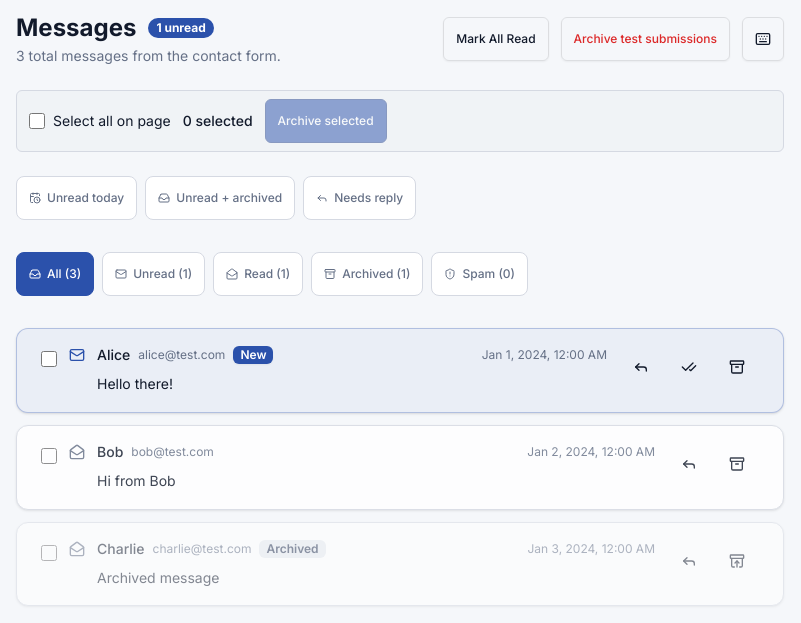
Test: MessagesViewer › filters by All/Unread/Read tabs
Expected: the text "Alice" is shown, [97, 345, 130, 365]
Expected: the text "Bob" is shown, [97, 442, 123, 462]
Click the tab "Unread (1)" at (154, 274), box [102, 252, 205, 296]
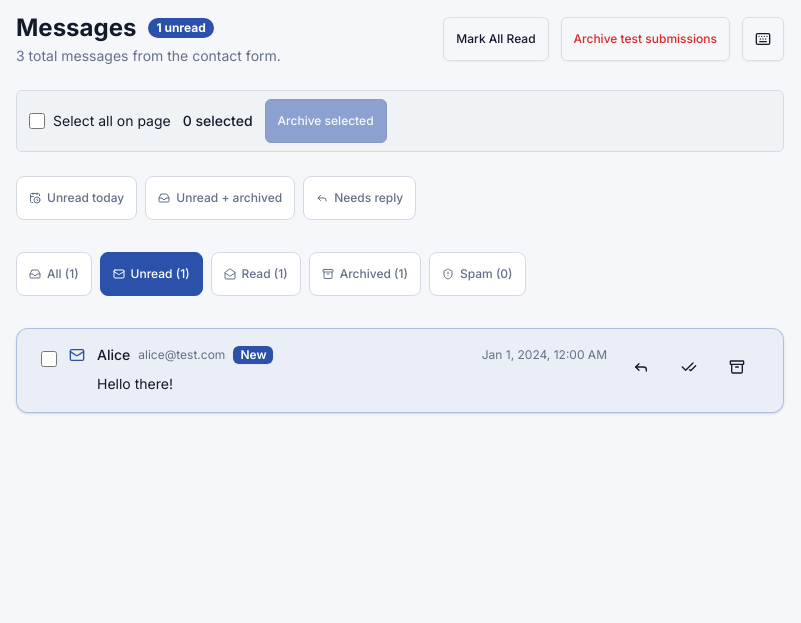
Expected: the text "Alice" is shown, [97, 345, 130, 365]
Expected: the text "Bob" is gone
Expected: the text "Charlie" is gone
Click the tab "Read (1)" at (256, 274), box [211, 252, 301, 296]
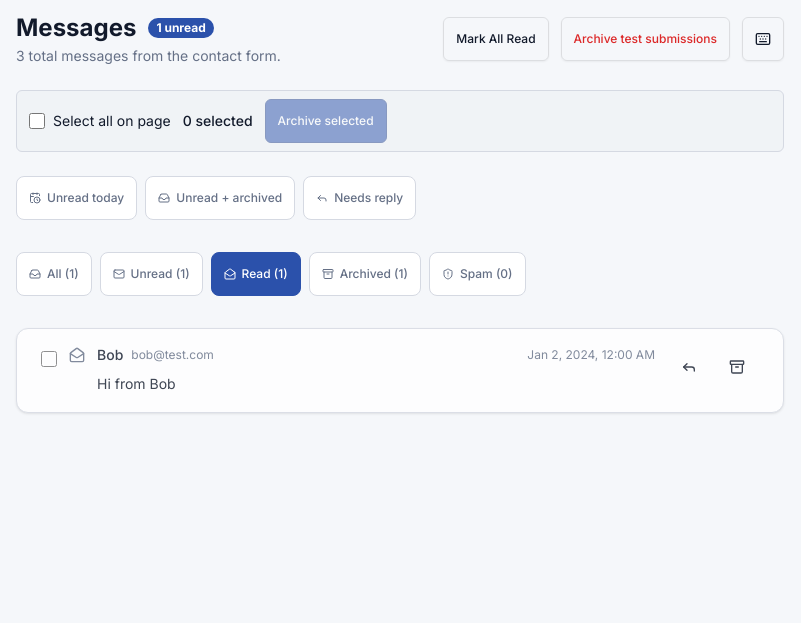
Expected: the text "Charlie" is not shown
Expected: the text "Alice" is gone
Expected: the text "Bob" is shown, [97, 345, 123, 365]
